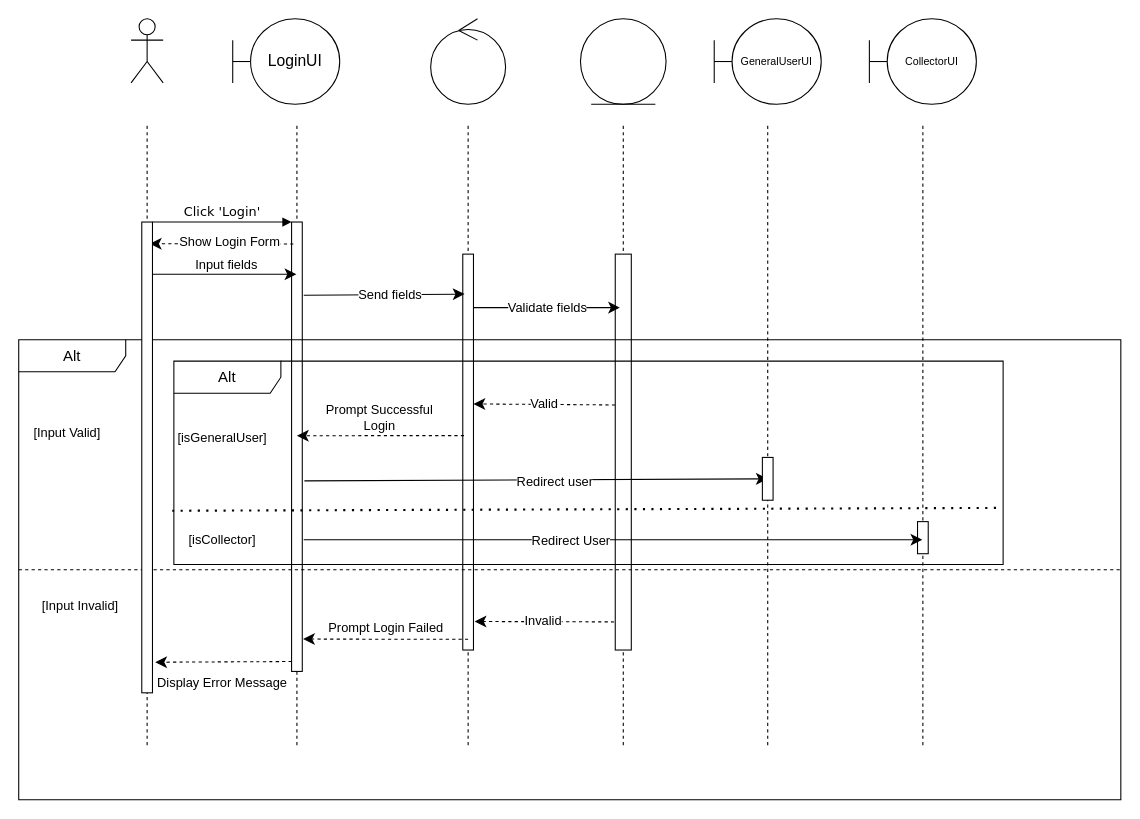
This 1140x819 diagram has some shape labels left out. Here are the shapes that lost their labels. From the top down, the box of each, then its label:
(130, 18, 163, 83): User
(430, 18, 506, 104): User Login System
(579, 18, 666, 104): User List
